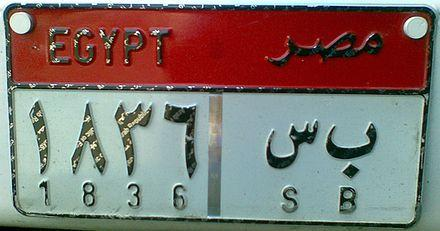1: (24, 97, 59, 177)
3: (112, 101, 155, 177)
6: (163, 101, 204, 179)
8: (68, 100, 108, 176)
baa: (322, 116, 384, 179)
seen: (263, 119, 320, 173)
